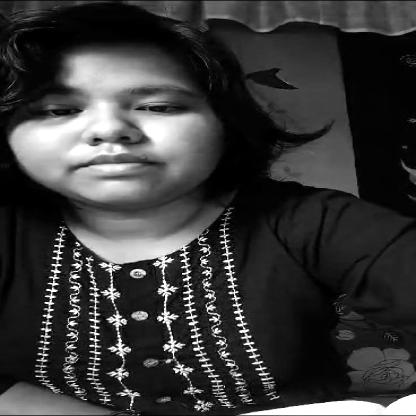Normal: (0, 37, 263, 203)
